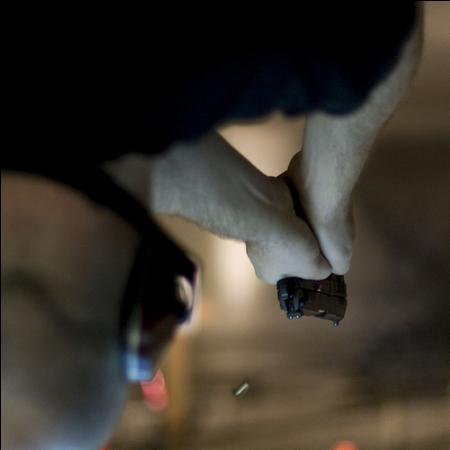Pistol: (280, 179, 350, 329)
